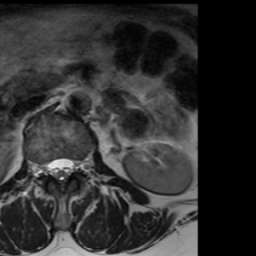CCS_normal: (55, 149, 65, 193)
LFS_normal: (74, 148, 84, 180)
LLS_normal: (65, 149, 75, 182)
RFS_normal: (37, 151, 46, 182)
RLS_normal: (46, 150, 55, 185)
